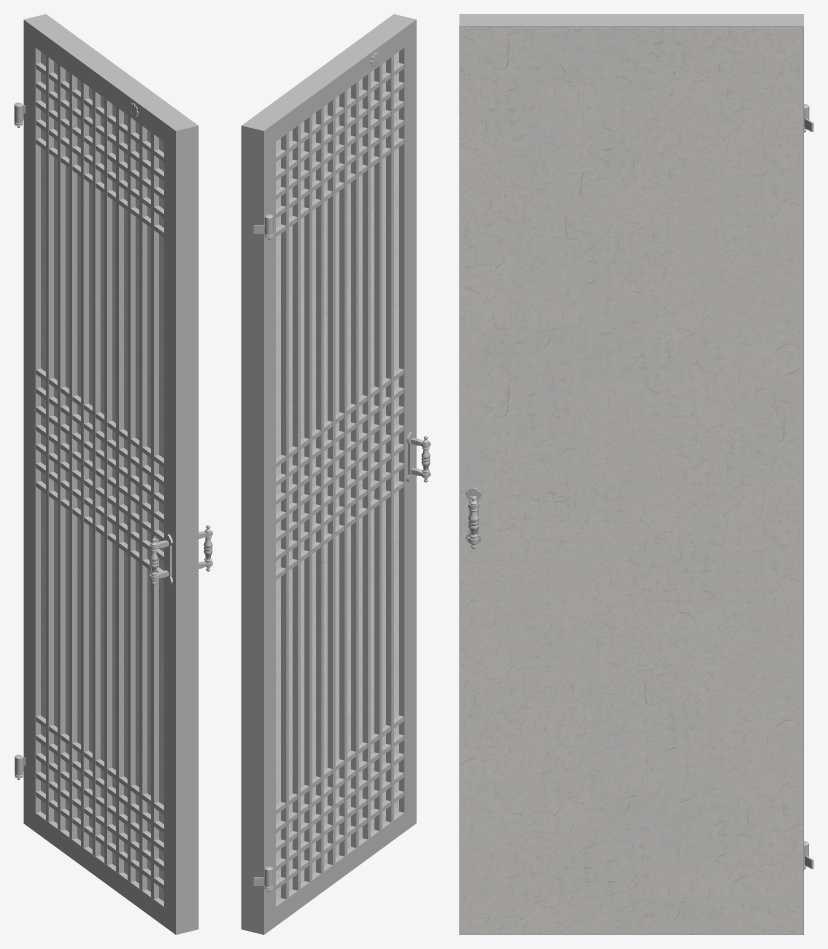
Rendered from SM_GlassDoor01H-a.fbx.
3 views of the same model, side by side, from view 1: azimuth 30°, elevation 25°; view 2: azimuth 150°, elevation 25°; view 3: azimuth 270°, elevation 25° (orthographic). The views are drawn at different scales.
Parts seen in each view (by area): view 1: SM_GlassDoor01H-a; view 2: SM_GlassDoor01H-a; view 3: SM_GlassDoor01H-a.
Part boxes in pixels (left/top/right/bottom): SM_GlassDoor01H-a: left=14, top=14, right=212, bottom=934; SM_GlassDoor01H-a: left=241, top=14, right=430, bottom=934; SM_GlassDoor01H-a: left=459, top=14, right=813, bottom=934.
Bounding box in the file's own units: 12.81 × 57.05 × 161.
